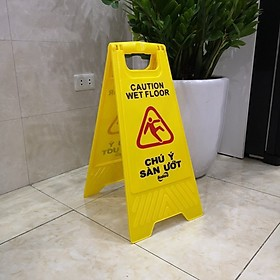wet caution sign: (70, 35, 210, 249)
